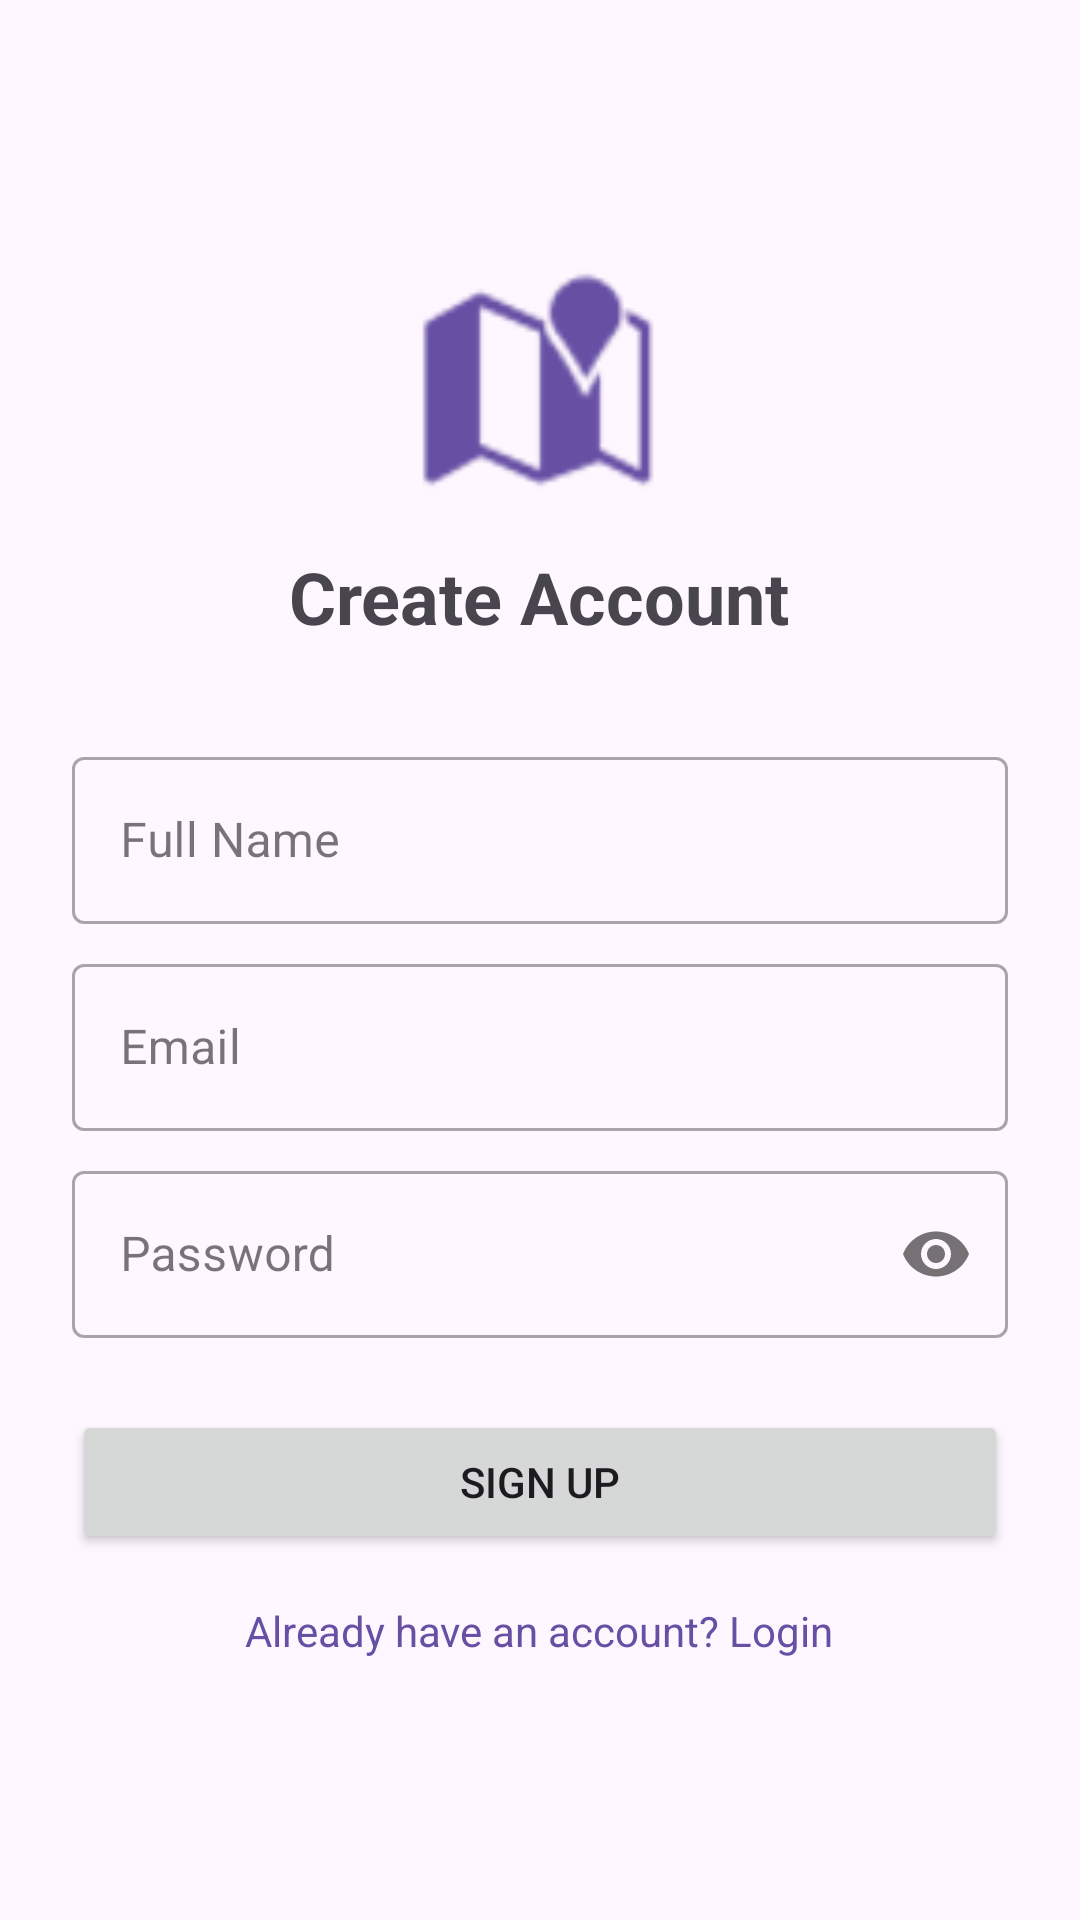

Locate icon controls on the screen. Image size 1080 × 1920, boxes as (x1, y1, x2, y2).
map: (423, 274, 653, 486)
